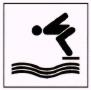piscina: (2, 3, 88, 89)
